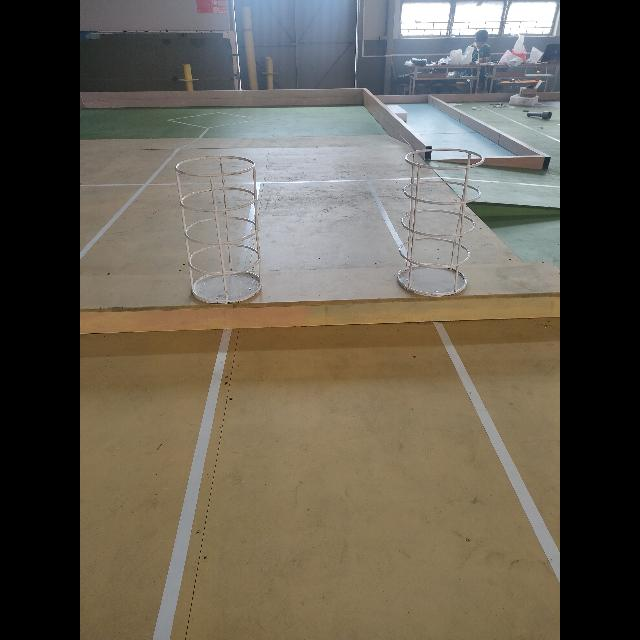S: (173, 153, 265, 306), (395, 146, 486, 300)
